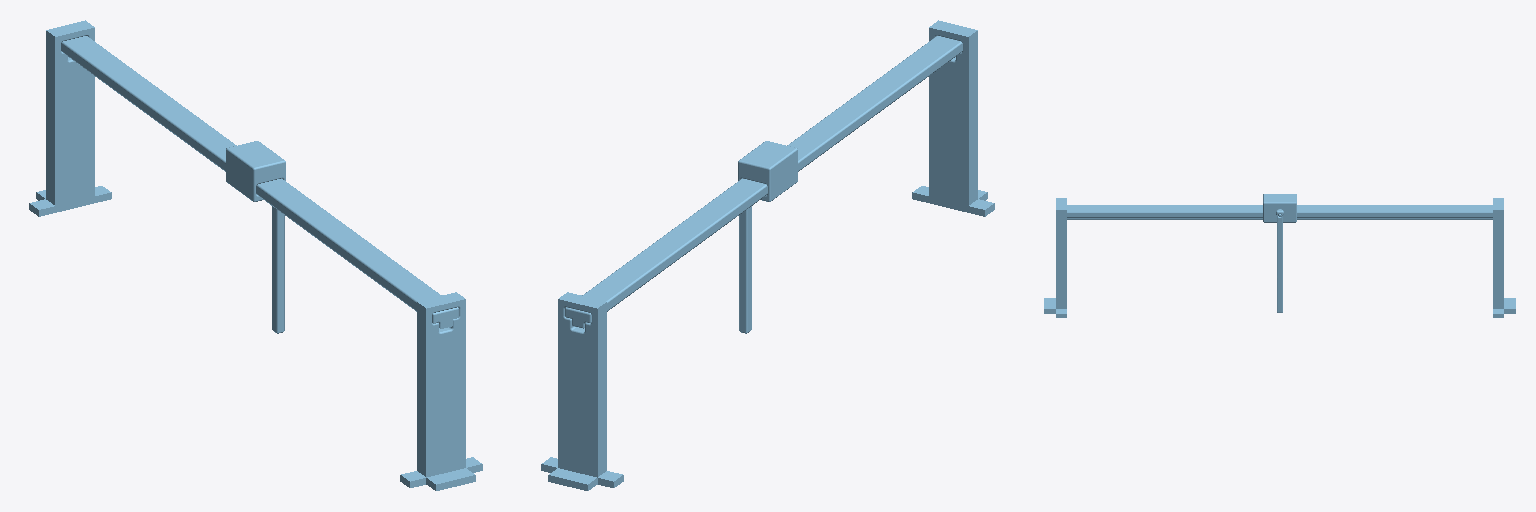
URDF robot description (cart_pole):
<robot name="cart_pole">
  <link name="support_pole">
    <visual>
      <origin rpy="0 -0 0" xyz="0.085000000000000019984 0.025000000000000001388 -0.019999999999999990008" />
      <geometry>
        <mesh filename="package://cart_pole_description/cart_pole/support_plaform_1.obj" />
      </geometry>
      <material name="support_plaform_1_material">
        <color rgba="0.61568627450980395466 0.81176470588235294379 0.92941176470588238168 1.0" />
      </material>
    </visual>
    <collision>
      <origin rpy="0 -0 0" xyz="0.085000000000000019984 0.025000000000000001388 -0.019999999999999990008" />
      <geometry>
        <mesh filename="package://cart_pole_description/cart_pole/support_plaform_1.obj" />
      </geometry>
    </collision>
    <inertial>
      <origin rpy="0 0 0" xyz="0.085000000000000019984 0.0019366224157371760613 0.20527754982977566844" />
      <mass value="8.3650792577619803581" />
      <inertia ixx="0.18809404056513884251" ixy="0" ixz="0" iyy="0.19768960892502629445" iyz="0.0034874963072423744229" izz="0.014632587595117504606" />
    </inertial>
  </link>
  <link name="cart_pole">
    <visual>
      <origin rpy="-1.570796326794896558 -1.570796326794896558 0" xyz="0.0050000000000000009714 -0.049999999999999988898 0" />
      <geometry>
        <mesh filename="package://cart_pole_description/cart_pole/cart_pole_line.obj" />
      </geometry>
      <material name="cart_pole_line_material">
        <color rgba="0.61568627450980395466 0.81176470588235294379 0.92941176470588238168 1.0" />
      </material>
    </visual>
    <collision>
      <origin rpy="-1.570796326794896558 -1.570796326794896558 0" xyz="0.0050000000000000009714 -0.049999999999999988898 0" />
      <geometry>
        <mesh filename="package://cart_pole_description/cart_pole/cart_pole_line.obj" />
      </geometry>
    </collision>
    <inertial>
      <origin rpy="0 0 0" xyz="-0.99507213325206489429 -0.021216690244781032104 -3.5306212902930945573e-05" />
      <mass value="17.129471613392958318" />
      <inertia ixx="0.010371517126750266768" ixy="-2.2571194222369972551e-05" ixz="8.5176426230256071983e-06" iyy="5.7133527876254550648" iyz="-5.938288855520099704e-06" izz="5.7091229148612372413" />
    </inertial>
  </link>
  <link name="support_plaform_1">
    <visual>
      <origin rpy="-1.570796326794896558 -1.570796326794896558 0" xyz="0.0049999999999998934186 -0.48999999999999999112 6.9388939039072283776e-17" />
      <geometry>
        <mesh filename="package://cart_pole_description/cart_pole/support_plaform_1.obj" />
      </geometry>
      <material name="support_plaform_1_material">
        <color rgba="0.61568627450980395466 0.81176470588235294379 0.92941176470588238168 1.0" />
      </material>
    </visual>
    <collision>
      <origin rpy="-1.570796326794896558 -1.570796326794896558 0" xyz="0.0049999999999998934186 -0.48999999999999999112 6.9388939039072283776e-17" />
      <geometry>
        <mesh filename="package://cart_pole_description/cart_pole/support_plaform_1.obj" />
      </geometry>
    </collision>
    <inertial>
      <origin rpy="0 0 0" xyz="-0.018063377584262931691 -0.26472245017022433267 6.5441072379336884681e-17" />
      <mass value="8.3650792577619803581" />
      <inertia ixx="0.19768960892502629445" ixy="0.0034874963072423744229" ixz="0" iyy="0.014632587595117504606" iyz="0" izz="0.18809404056513884251" />
    </inertial>
  </link>
  <joint name="fastened 3" type="fixed">
    <origin rpy="3.141592653589793116 -0 3.141592653589793116" xyz="-1.9900000000000002132 0 -1.3877787807814456755e-17" />
    <parent link="cart_pole" />
    <child link="support_plaform_1" />
    <axis xyz="0 0 1" />
    <limit effort="1" velocity="20" />
    <joint_properties friction="0.0" />
  </joint>
  <link name="cart_move">
    <visual>
      <origin rpy="-1.570796326794896558 -1.570796326794896336 0" xyz="0.010000000000000008882 -0.025000000000000022204 -0.075000000000000066613" />
      <geometry>
        <mesh filename="package://cart_pole_description/cart_pole/cart_move.obj" />
      </geometry>
      <material name="cart_move_material">
        <color rgba="0.61568627450980395466 0.81176470588235294379 0.92941176470588238168 1.0" />
      </material>
    </visual>
    <collision>
      <origin rpy="-1.570796326794896558 -1.570796326794896336 0" xyz="0.010000000000000008882 -0.025000000000000022204 -0.075000000000000066613" />
      <geometry>
        <mesh filename="package://cart_pole_description/cart_pole/cart_move.obj" />
      </geometry>
    </collision>
    <inertial>
      <origin rpy="0 0 0" xyz="-0.039380514238607201849 0.03507424335133896981 -5.5511151231257827021e-17" />
      <mass value="2.7582989593438584919" />
      <inertia ixx="0.0072884337806232426735" ixy="1.7214130923659983201e-05" ixz="5.5457548773363819873e-21" iyy="0.007943139603199119228" iyz="9.1364122808394913014e-19" izz="0.0051071794741707502926" />
    </inertial>
  </link>
  <link name="cart_swinger">
    <visual>
      <origin rpy="-1.570796326794896558 -0 0" xyz="0 -0.47999999999999998224 -0.0050000000000000044409" />
      <geometry>
        <mesh filename="package://cart_pole_description/cart_pole/cart_swinger.obj" />
      </geometry>
      <material name="cart_swinger_material">
        <color rgba="0.61568627450980395466 0.81176470588235294379 0.92941176470588238168 1.0" />
      </material>
    </visual>
    <collision>
      <origin rpy="-1.570796326794896558 -0 0" xyz="0 -0.47999999999999998224 -0.0050000000000000044409" />
      <geometry>
        <mesh filename="package://cart_pole_description/cart_pole/cart_swinger.obj" />
      </geometry>
    </collision>
    <inertial>
      <origin rpy="0 0 0" xyz="-2.157282115343227227e-17 -0.23320688038281839338 0.0074999999999999893141" />
      <mass value="0.96730709424135585817" />
      <inertia ixx="0.019645015474623172408" ixy="0" ixz="6.5797313948525898238e-12" iyy="0.00011766776891047566519" iyz="0" izz="0.019666908757294859073" />
    </inertial>
  </link>
  <joint name="continuous_revolute_1" type="continuous">
    <origin rpy="-0 -1.570796326794896336 0" xyz="0.035000000000000003331 0.024999999999999966693 0" />
    <parent link="cart_move" />
    <child link="cart_swinger" />
    <axis xyz="0 0 1" />
    <limit effort="1" velocity="20" />
    <joint_properties friction="0.0" />
  </joint>
  <joint name="slider_1" type="prismatic">
    <origin rpy="-0 -1.570796326794896558 0" xyz="-0.99499999999999999556 -0.024999999999999966693 0.040000000000000035527" />
    <parent link="cart_pole" />
    <child link="cart_move" />
    <axis xyz="0 0 1" />
    <limit effort="1" lower="-0.8499999999999999778" upper="0.8499999999999999778" velocity="20" />
    <joint_properties friction="0.0" />
  </joint>
  <joint name="fastened 2" type="fixed">
    <origin rpy="1.570796326794896558 -0 1.570796326794896558" xyz="0.084999999999999964473 0.019999999999999993477 0.46999999999999997335" />
    <parent link="support_pole" />
    <child link="cart_pole" />
    <axis xyz="0 0 1" />
    <limit effort="1" velocity="20" />
    <joint_properties friction="0.0" />
  </joint>
</robot>

--- What the picture shows (computed from the rendered views, not written in the file) ---
The picture shows the robot from 3 angles, left to right: view 1: azimuth 30°, elevation 25°; view 2: azimuth 150°, elevation 25°; view 3: azimuth 270°, elevation 25°; orthographic projection.
Model cart_pole with 5 links and 4 joints (1 continuous, 1 prismatic, 2 fixed), rooted at support_pole, posed all joints at 0.
Visible links, largest first — view 1: cart_pole, support_plaform_1, support_pole, cart_move, cart_swinger; view 2: cart_pole, support_pole, support_plaform_1, cart_move, cart_swinger; view 3: cart_pole, support_pole, support_plaform_1, cart_move, cart_swinger.
Link boxes in pixels (box(x1,y1,x2,y2)): cart_pole: box(61, 36, 458, 328); support_plaform_1: box(400, 292, 482, 490); support_pole: box(29, 20, 111, 216); cart_move: box(226, 141, 285, 201); cart_swinger: box(272, 206, 284, 333); cart_pole: box(565, 36, 962, 328); support_pole: box(541, 292, 623, 490); support_plaform_1: box(912, 20, 994, 216); cart_move: box(738, 141, 797, 201); cart_swinger: box(739, 206, 751, 333); cart_pole: box(1067, 205, 1492, 219); support_pole: box(1493, 198, 1515, 317); support_plaform_1: box(1044, 198, 1066, 317); cart_move: box(1263, 194, 1296, 222); cart_swinger: box(1277, 210, 1282, 312).
Bounding box of the posed robot: 0.22 × 2.1 × 0.54 m (x, y, z).
Meshes: 4 distinct files referenced, 5 mesh visuals loaded (4 OBJ).